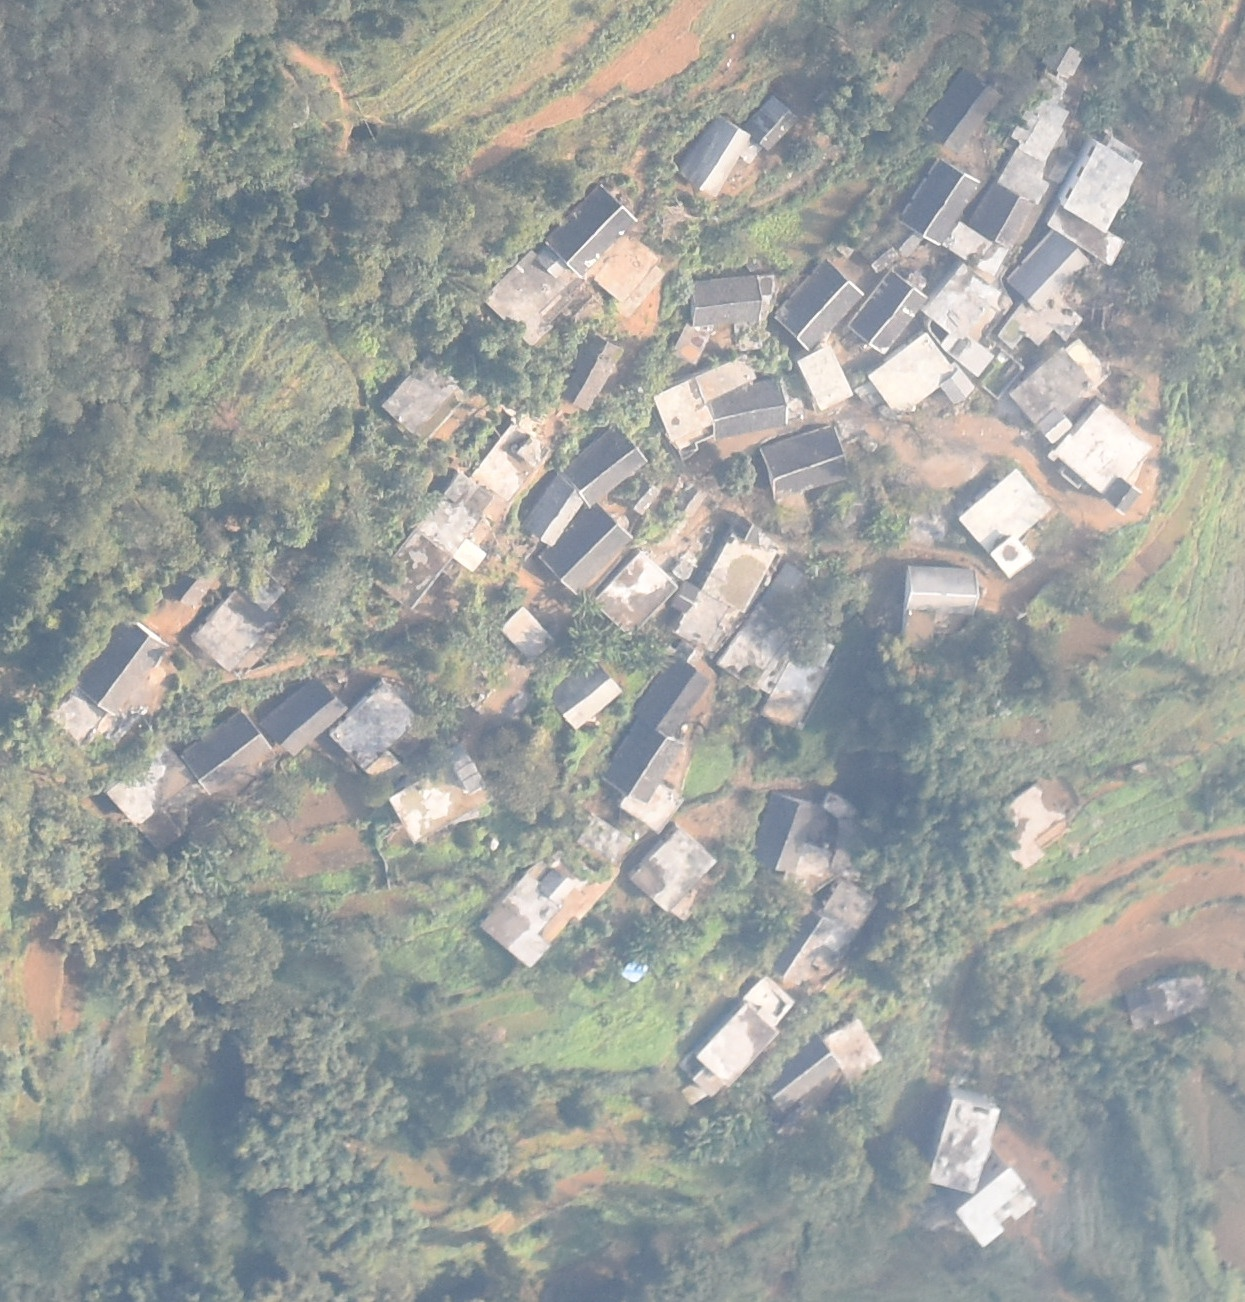building: (372, 471, 498, 612), (715, 559, 826, 691), (681, 972, 797, 1098), (1048, 131, 1145, 261), (1055, 397, 1149, 518), (957, 465, 1056, 579), (103, 739, 197, 850), (652, 356, 758, 454), (924, 262, 1013, 377), (483, 871, 583, 968), (480, 246, 576, 346), (76, 619, 169, 718), (542, 184, 638, 279), (1011, 345, 1106, 441), (180, 710, 278, 798), (389, 759, 493, 841), (329, 678, 420, 771), (868, 333, 976, 411), (540, 504, 633, 594), (926, 1088, 1001, 1196), (632, 823, 721, 914), (774, 260, 865, 349), (191, 588, 284, 673), (919, 63, 1005, 153), (259, 677, 351, 760), (992, 777, 1075, 869), (562, 424, 649, 510), (898, 157, 983, 245), (955, 1163, 1039, 1252), (760, 635, 839, 728), (781, 912, 862, 1000), (468, 422, 552, 506), (380, 360, 465, 442), (1003, 100, 1070, 204), (847, 270, 930, 353), (604, 720, 685, 803), (757, 425, 847, 497), (1007, 228, 1088, 308), (595, 552, 678, 630), (701, 530, 779, 612), (633, 657, 709, 737), (764, 1039, 841, 1115), (681, 112, 749, 196), (551, 658, 624, 732), (751, 788, 813, 874), (1123, 971, 1208, 1030), (999, 294, 1086, 349), (563, 333, 624, 411), (711, 379, 791, 436), (969, 182, 1036, 249), (819, 1017, 885, 1085), (906, 564, 982, 617), (687, 273, 762, 326), (944, 220, 1011, 277), (796, 345, 856, 407), (502, 606, 557, 661), (745, 96, 797, 152), (672, 324, 710, 364)
